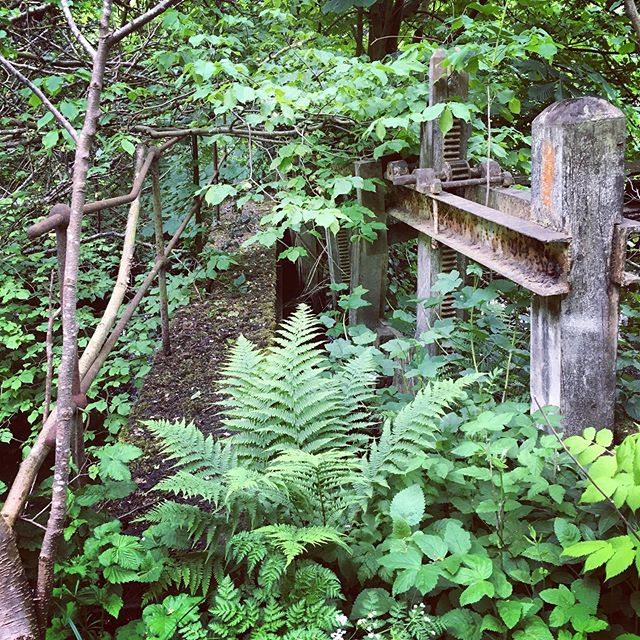vegetation: (2, 6, 640, 634)
